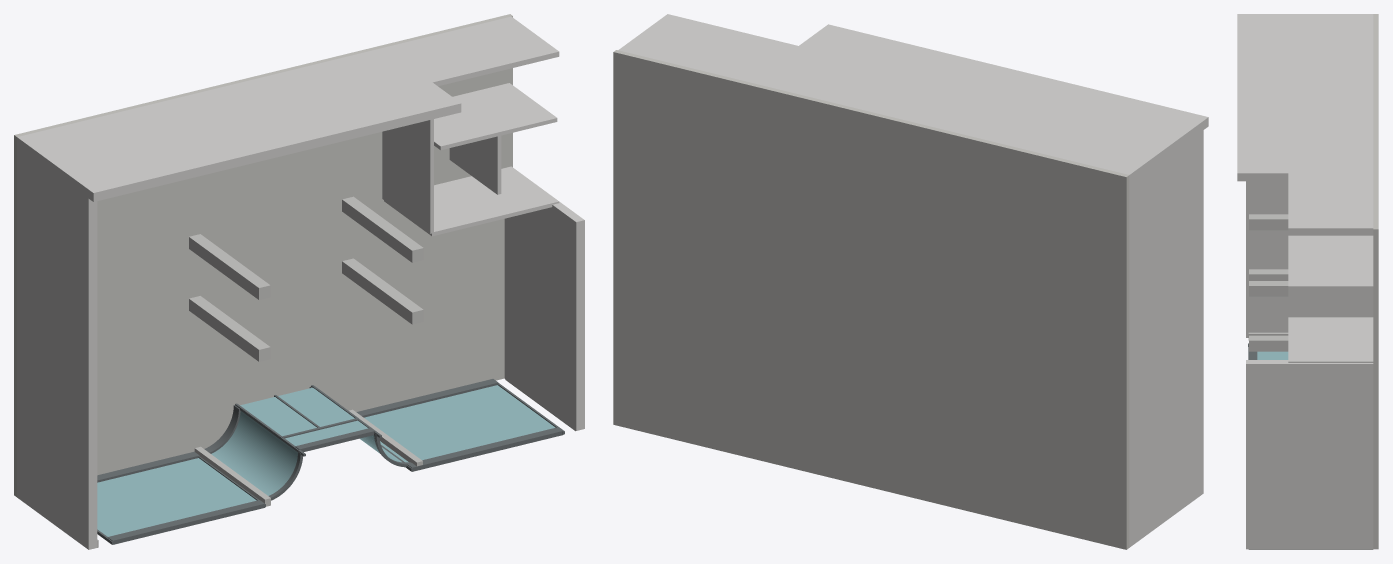
Rendered from 3D-Modell.glb.
3 views of the same model, side by side, from view 1: azimuth 30°, elevation 25°; view 2: azimuth 150°, elevation 25°; view 3: azimuth 270°, elevation 25° (orthographic). The views are drawn at different scales.
Parts seen in each view (by area): view 1: Boden, Rueckwand Hauptgalerie, Linke Aussenwand, Rechte Aussenwand, Schaufenster_EIN_Glas_Rechts_0, Schaufenster_EIN_Glas_Links_0, Anbau_Obere_Aussenwand, Anbau_Querwand, Anbau_Seitenwand, Anbau_WC_Trennwand, Eingang_Glastueren_0, Anbau_Abstellraum (+10 smaller); view 2: Boden, Rueckwand Hauptgalerie, Linke Aussenwand, Anbau_Obere_Aussenwand; view 3: Rechte Aussenwand, Rueckwand Hauptgalerie, Linke Aussenwand, Anbau_Obere_Aussenwand, Anbau_WC_Trennwand, Anbau_Querwand, Boden, Anbau_Abstellraum, Stuetze_1, Stuetze_2, Stuetze_3, Stuetze (+2 smaller).
Part boxes in pixels (x1,y1,x2,y2): Boden: [14, 14, 512, 496]; Rueckwand Hauptgalerie: [17, 47, 461, 201]; Linke Aussenwand: [17, 135, 97, 549]; Rechte Aussenwand: [504, 201, 584, 430]; Schaufenster_EIN_Glas_Rechts_0: [364, 385, 555, 460]; Schaufenster_EIN_Glas_Links_0: [97, 458, 256, 536]; Anbau_Obere_Aussenwand: [384, 16, 559, 86]; Anbau_Querwand: [384, 166, 559, 236]; Anbau_Seitenwand: [382, 119, 433, 233]; Anbau_WC_Trennwand: [434, 83, 557, 150]; Eingang_Glastueren_0: [240, 387, 354, 436]; Anbau_Abstellraum: [449, 134, 501, 194]; Boden: [613, 50, 1129, 549]; Rueckwand Hauptgalerie: [750, 24, 1208, 181]; Linke Aussenwand: [1122, 119, 1203, 547]; Anbau_Obere_Aussenwand: [618, 14, 798, 82]; Rechte Aussenwand: [1246, 360, 1373, 549]; Rueckwand Hauptgalerie: [1237, 14, 1373, 181]; Linke Aussenwand: [1246, 14, 1373, 337]; Anbau_Obere_Aussenwand: [1288, 173, 1373, 232]; Anbau_WC_Trennwand: [1288, 235, 1373, 289]; Anbau_Querwand: [1288, 317, 1373, 362]; Boden: [1373, 14, 1378, 549]; Anbau_Abstellraum: [1288, 289, 1373, 317]; Stuetze_1: [1249, 214, 1288, 230]; Stuetze_2: [1249, 335, 1288, 351]; Stuetze_3: [1249, 281, 1288, 296]; Stuetze: [1249, 269, 1288, 280].
Bounding box in the file's own units: 16.14 × 11.28 × 4.47.
